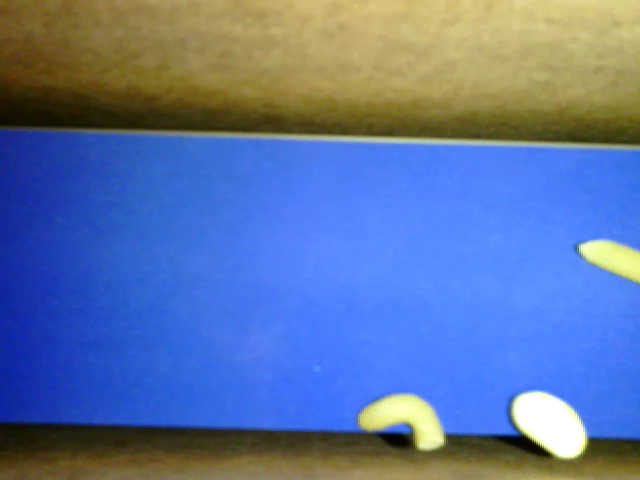elbow: (358, 393, 445, 449)
penne: (577, 237, 639, 283)
